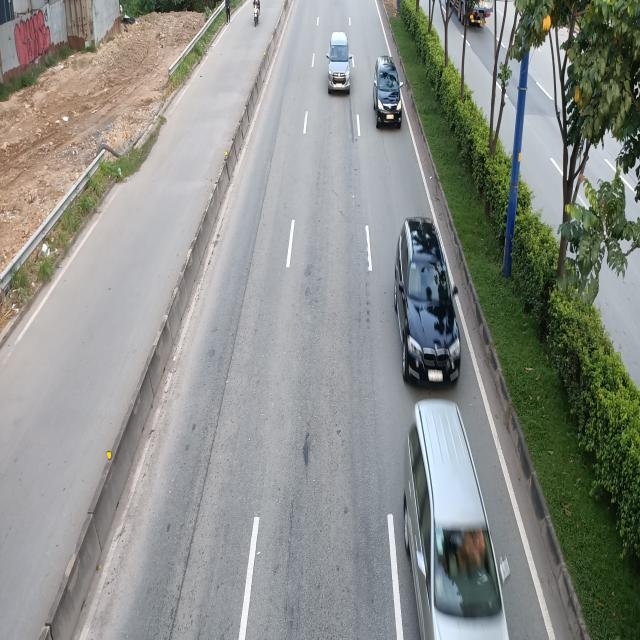car: (400, 400, 513, 636), (394, 216, 461, 384), (374, 59, 404, 131), (328, 32, 352, 95)
